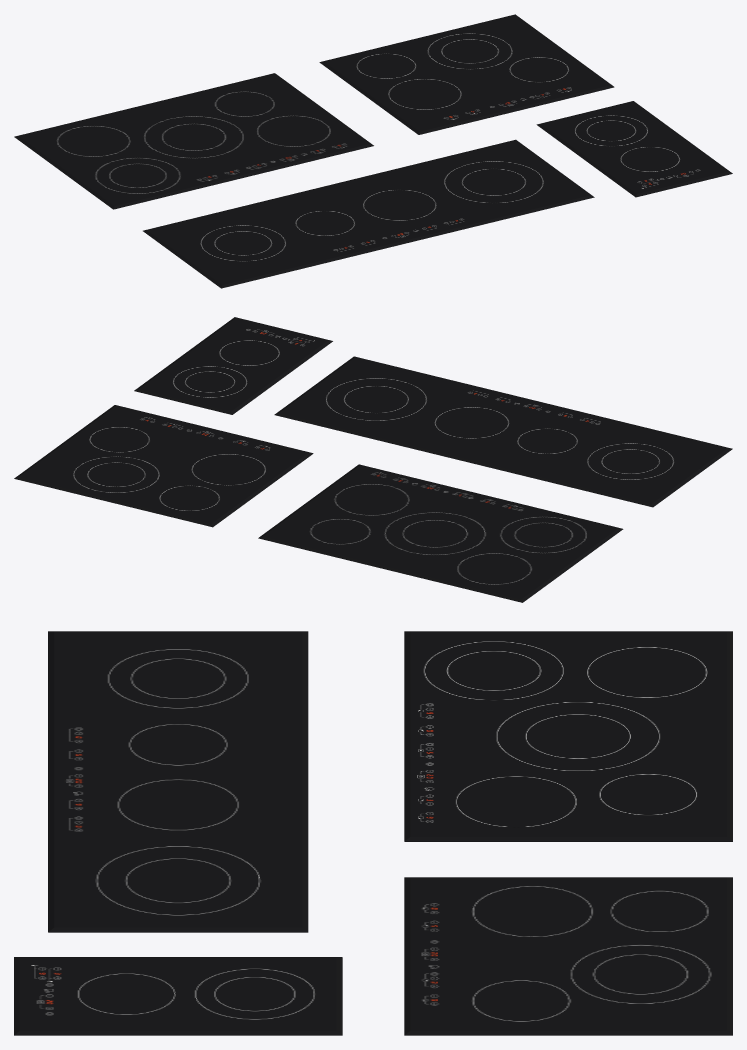
The model's file is mpm_vol.10_p01.FBX.
3 views of the same model, one above another, from view 1: azimuth 30°, elevation 25°; view 2: azimuth 150°, elevation 25°; view 3: azimuth 270°, elevation 25° (orthographic). The views are drawn at different scales.
Visible parts, largest first — view 1: 01 Barazza ceramic 4 areas line, 01 Barazza ceramic 5 areas, 01 Barazza ceramic 4 areas square, 01 Barazza ceramic 2 areas; view 2: 01 Barazza ceramic 4 areas line, 01 Barazza ceramic 5 areas, 01 Barazza ceramic 4 areas square, 01 Barazza ceramic 2 areas; view 3: 01 Barazza ceramic 4 areas line, 01 Barazza ceramic 5 areas, 01 Barazza ceramic 4 areas square, 01 Barazza ceramic 2 areas.
Part boxes in pixels (x1,y1,x2,y2): 01 Barazza ceramic 4 areas line: (143, 139, 594, 288); 01 Barazza ceramic 5 areas: (14, 73, 373, 209); 01 Barazza ceramic 4 areas square: (319, 14, 614, 134); 01 Barazza ceramic 2 areas: (536, 101, 732, 197); 01 Barazza ceramic 4 areas line: (274, 356, 732, 507); 01 Barazza ceramic 5 areas: (258, 464, 623, 602); 01 Barazza ceramic 4 areas square: (14, 405, 313, 527); 01 Barazza ceramic 2 areas: (134, 317, 332, 414); 01 Barazza ceramic 4 areas line: (48, 631, 308, 932); 01 Barazza ceramic 5 areas: (404, 631, 732, 841); 01 Barazza ceramic 4 areas square: (404, 877, 732, 1035); 01 Barazza ceramic 2 areas: (14, 957, 342, 1035).
Bounding box in the file's own units: 1470 × 4 × 1105.
